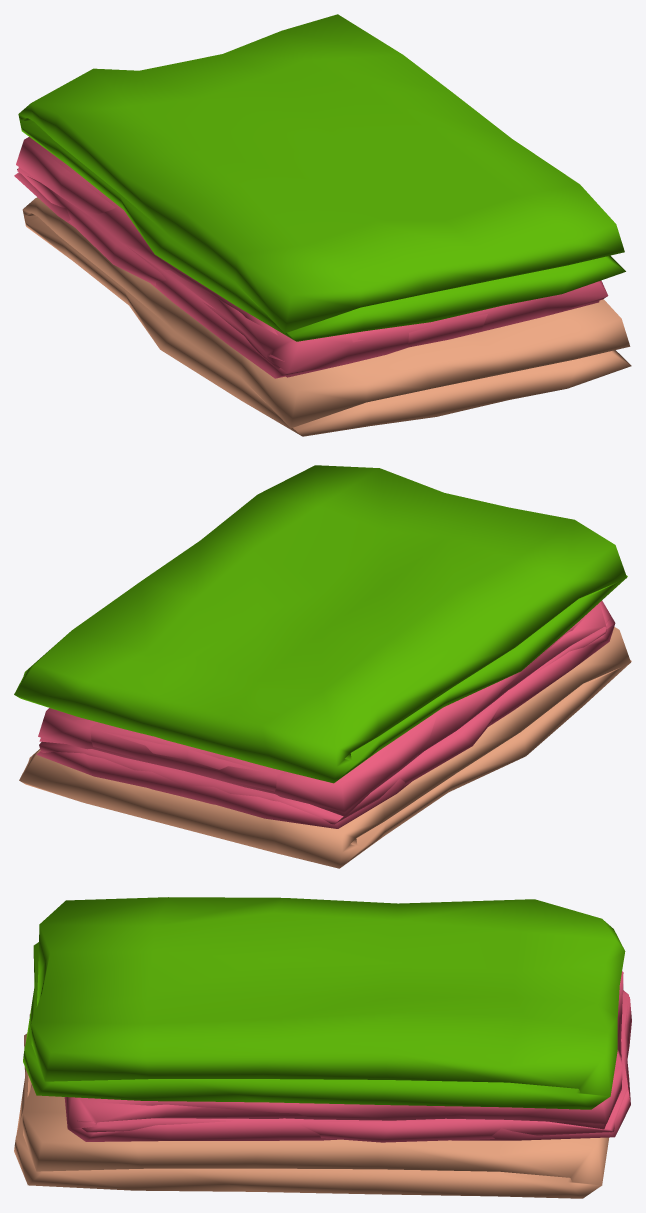
File: clothes_V2.fbx
3 renders of one model, top to bottom at view 1: azimuth 30°, elevation 25°; view 2: azimuth 150°, elevation 25°; view 3: azimuth 270°, elevation 25°, orthographic. The views are drawn at different scales.
Parts seen in each view (by area): view 1: clothe_base.001_Cube.003, clothe_base.001_Cube.002, clothe_base.001_Cube.001; view 2: clothe_base.001_Cube.003, clothe_base.001_Cube.001, clothe_base.001_Cube.002; view 3: clothe_base.001_Cube.003, clothe_base.001_Cube.002, clothe_base.001_Cube.001.
Boxes of the visible parts, box(x1,y1,x2,y2) form: clothe_base.001_Cube.003: box(18, 14, 625, 341); clothe_base.001_Cube.002: box(22, 197, 631, 436); clothe_base.001_Cube.001: box(14, 137, 608, 378); clothe_base.001_Cube.003: box(14, 465, 627, 783); clothe_base.001_Cube.001: box(36, 600, 615, 828); clothe_base.001_Cube.002: box(19, 627, 631, 868); clothe_base.001_Cube.003: box(23, 897, 625, 1109); clothe_base.001_Cube.002: box(14, 1014, 608, 1198); clothe_base.001_Cube.001: box(64, 971, 631, 1142).
Bounding box in the file's own units: 2687 × 1078 × 4009.
